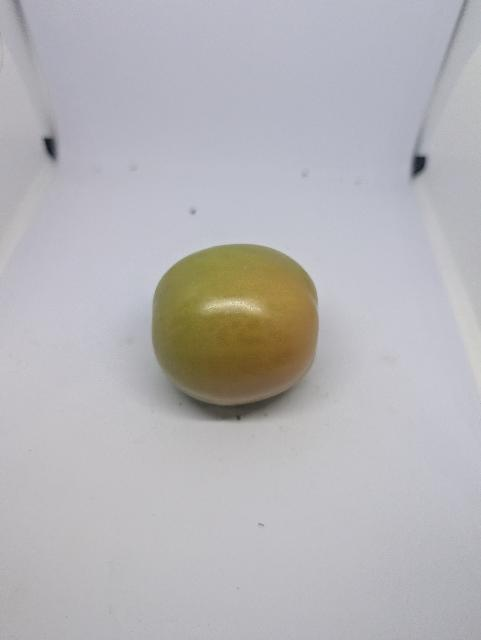breaker: (147, 239, 322, 411)
